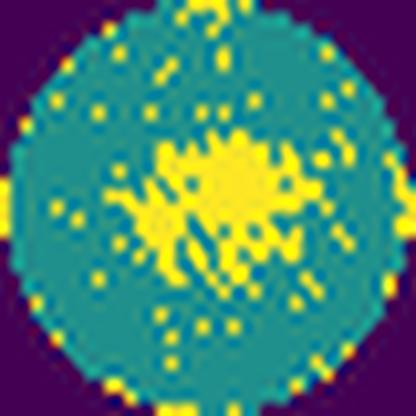Center: (104, 131, 325, 298)
